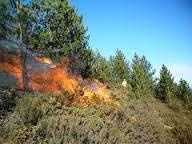fire: (0, 51, 85, 96)
